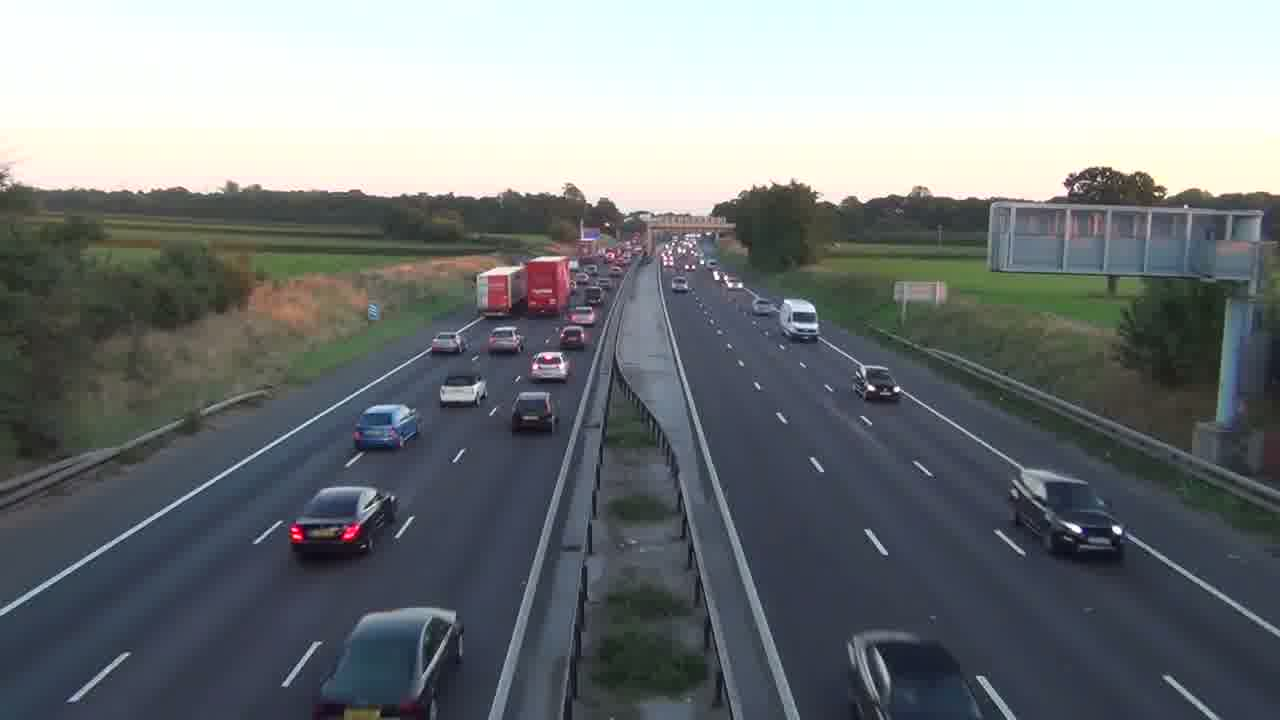car: (312, 605, 465, 718), (845, 627, 982, 718), (289, 484, 398, 559), (351, 403, 421, 452), (510, 389, 558, 434), (438, 373, 486, 408), (529, 350, 571, 383), (487, 326, 522, 355), (431, 331, 465, 356)
truck: (1007, 467, 1125, 559), (525, 256, 570, 317), (778, 298, 820, 342)
